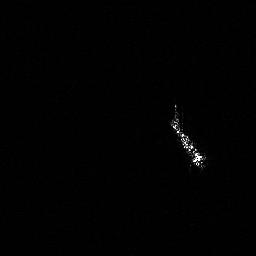ship: (166, 101, 211, 173)
